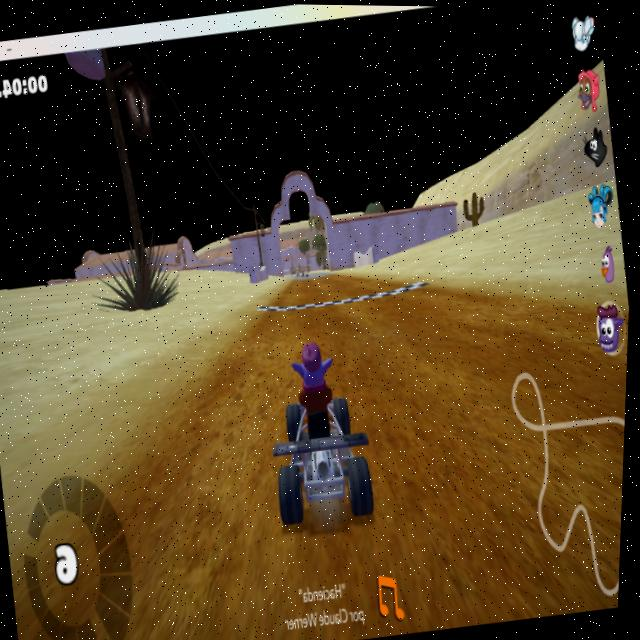off_track: (0, 270, 252, 428), (371, 174, 595, 281)
player_kart: (261, 340, 387, 544)
track: (268, 268, 360, 340)
